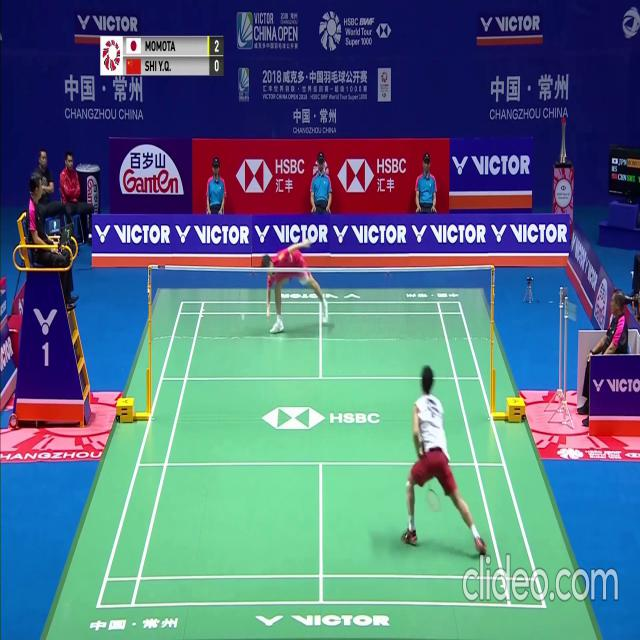Shuttlecock: (240, 312, 245, 319)
